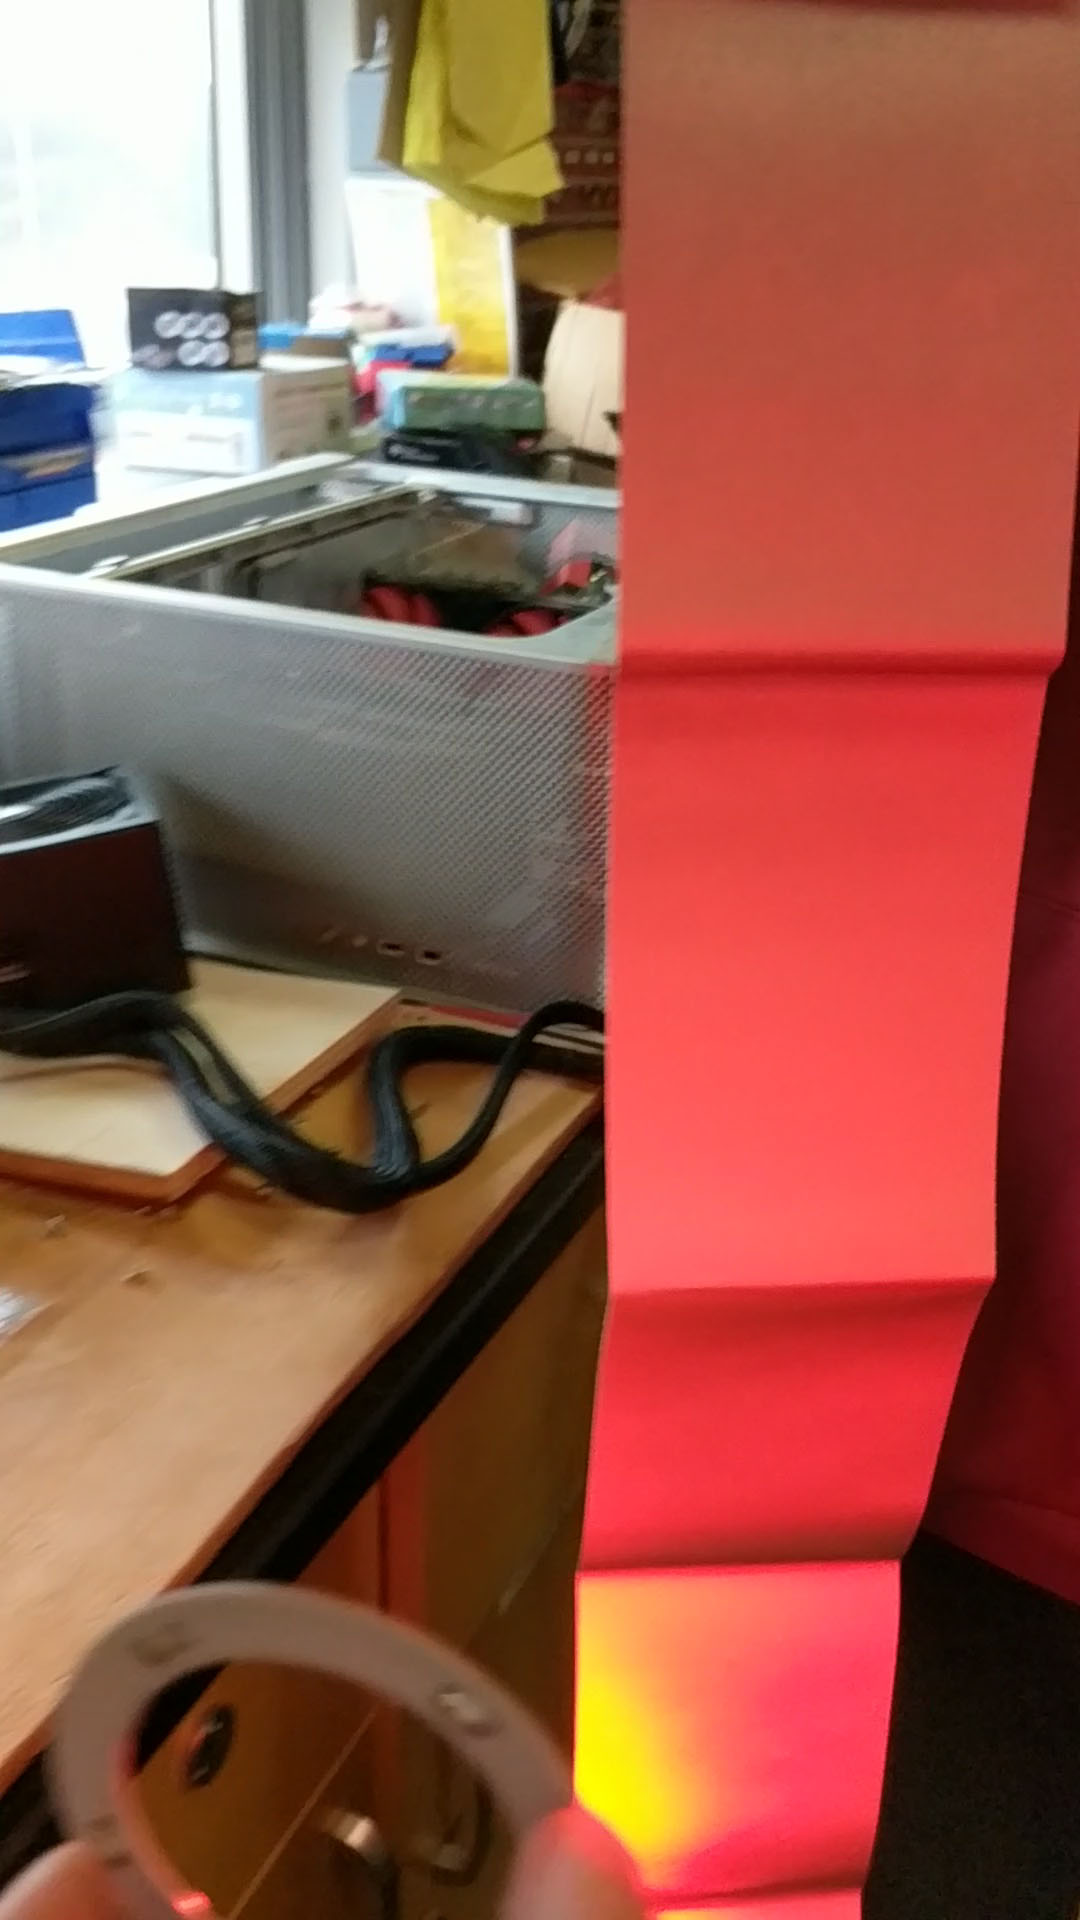gear: (576, 0, 1080, 1920)
